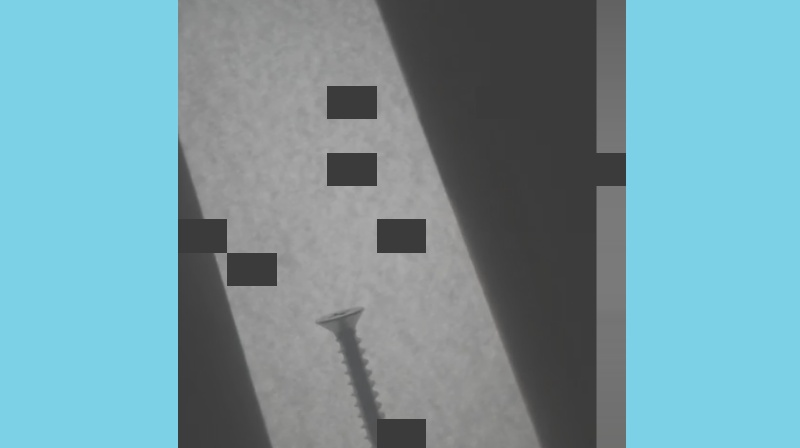S001: (310, 302, 392, 447)
